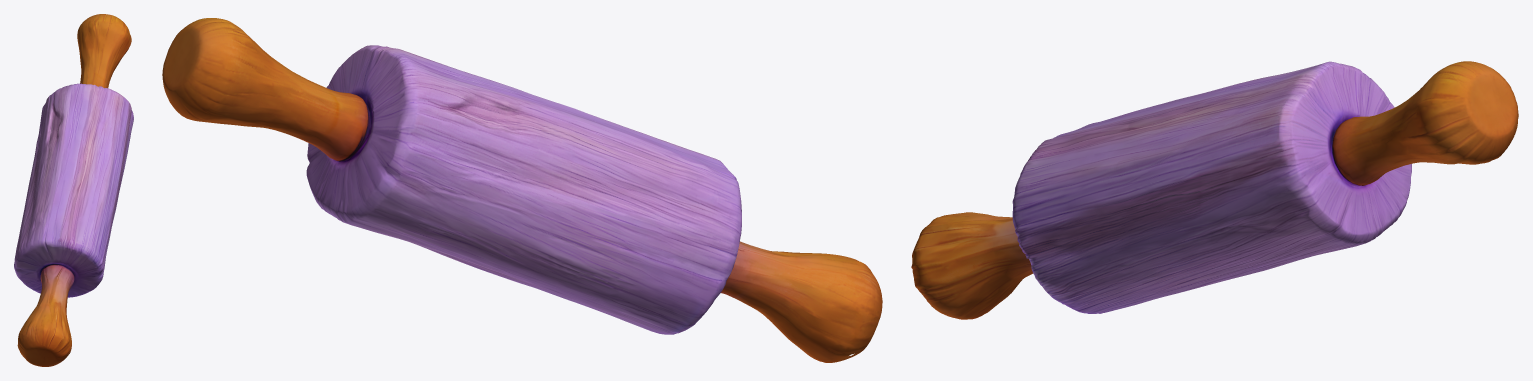
The model's file is rollingpin.glb.
3 renders of one model, left to right at view 1: azimuth 30°, elevation 25°; view 2: azimuth 150°, elevation 25°; view 3: azimuth 270°, elevation 25°, orthographic. The views are drawn at different scales.
Parts seen in each view (by area): view 1: tripo_node_c7450df3-256e-4499-9006-2ebc85beedc7; view 2: tripo_node_c7450df3-256e-4499-9006-2ebc85beedc7; view 3: tripo_node_c7450df3-256e-4499-9006-2ebc85beedc7.
Boxes of the visible parts, bbox=[...] form: tripo_node_c7450df3-256e-4499-9006-2ebc85beedc7: bbox=[14, 14, 133, 366]; tripo_node_c7450df3-256e-4499-9006-2ebc85beedc7: bbox=[162, 18, 882, 362]; tripo_node_c7450df3-256e-4499-9006-2ebc85beedc7: bbox=[911, 61, 1518, 319].
Size of the model in its own units: 0.8579 by 0.7607 by 0.9804.
1 material, 1 textured.
